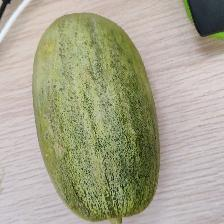gua: (33, 10, 169, 224)
